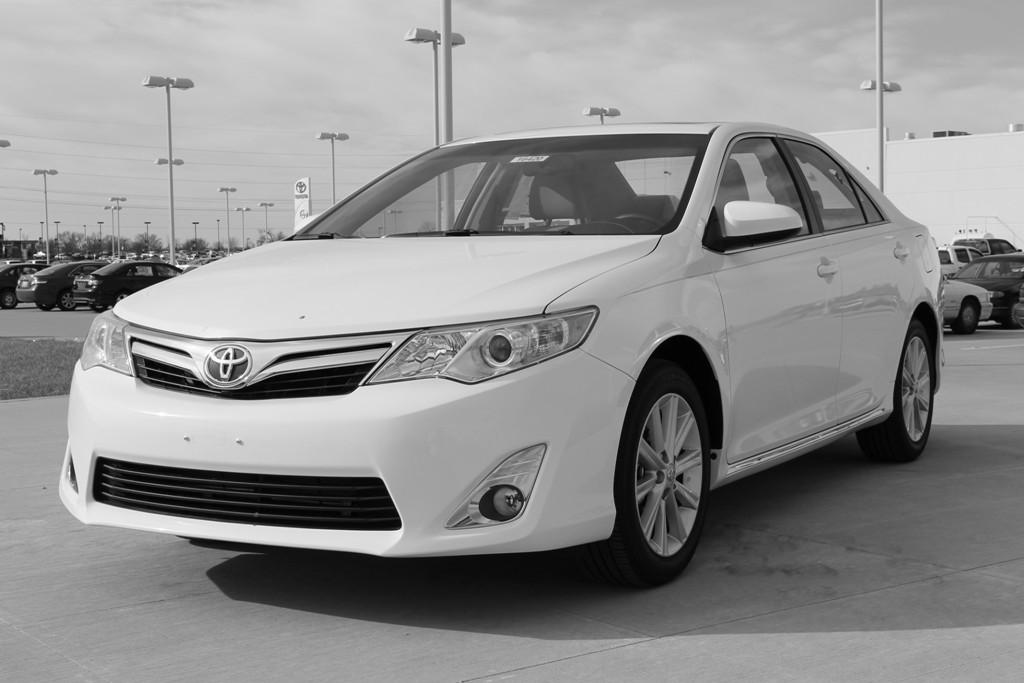car: (54, 122, 942, 590)
